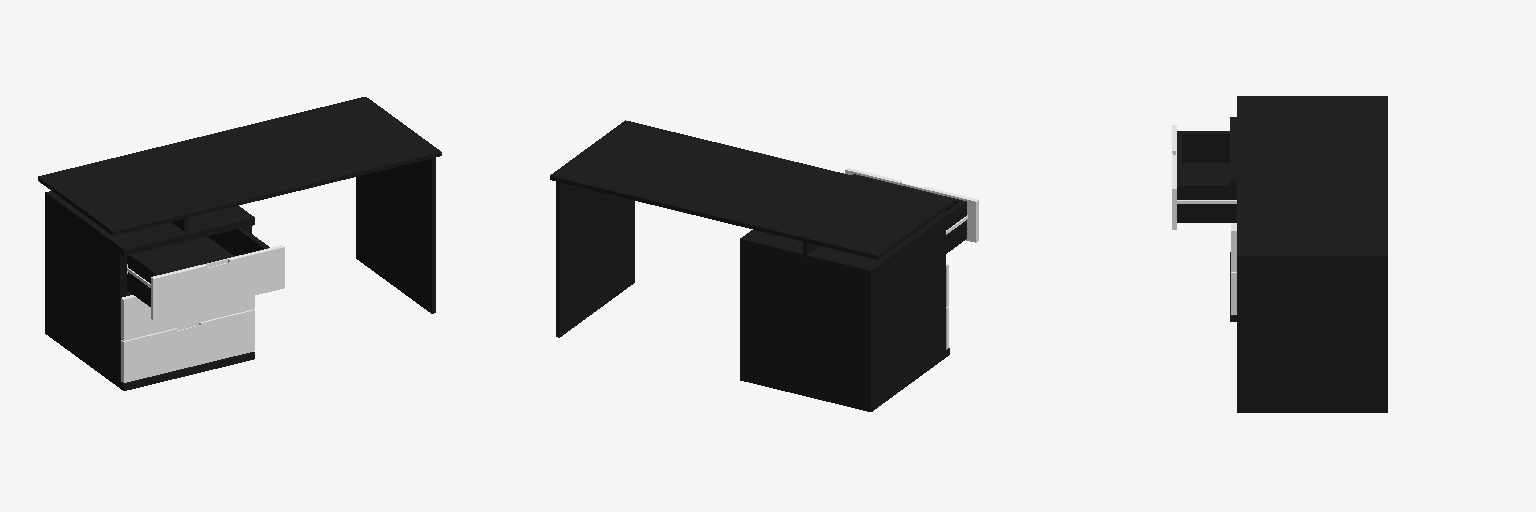
File: computer_table.obj
3 renders of one model, left to right at view 1: azimuth 30°, elevation 25°; view 2: azimuth 150°, elevation 25°; view 3: azimuth 270°, elevation 25°, orthographic.
Visible parts, largest first — view 1: Объект_Куб.1, Булев.1, Объект_Куб.7, Объект_Куб.4, Объект_Куб.2, Объект_Куб.3; view 2: Булев.1, Объект_Куб.1, Объект_Куб.4, Объект_Куб.7; view 3: Объект_Куб.1, Объект_Куб.4, Объект_Куб.7, Булев.1.
Boxes of the visible parts, box(x1,y1,x2,y2) form: Объект_Куб.1: box(38, 97, 441, 235); Булев.1: box(45, 191, 254, 390); Объект_Куб.7: box(127, 228, 284, 319); Объект_Куб.4: box(356, 157, 435, 313); Объект_Куб.2: box(121, 309, 254, 382); Объект_Куб.3: box(121, 291, 254, 340); Булев.1: box(740, 212, 949, 411); Объект_Куб.1: box(550, 120, 953, 259); Объект_Куб.4: box(556, 181, 634, 337); Объект_Куб.7: box(845, 168, 978, 253); Объект_Куб.1: box(1237, 96, 1387, 259); Объект_Куб.4: box(1237, 260, 1387, 412); Объект_Куб.7: box(1172, 125, 1236, 229); Булев.1: box(1230, 117, 1236, 321).
Bounding box in the file's own units: 250 × 116 × 143.